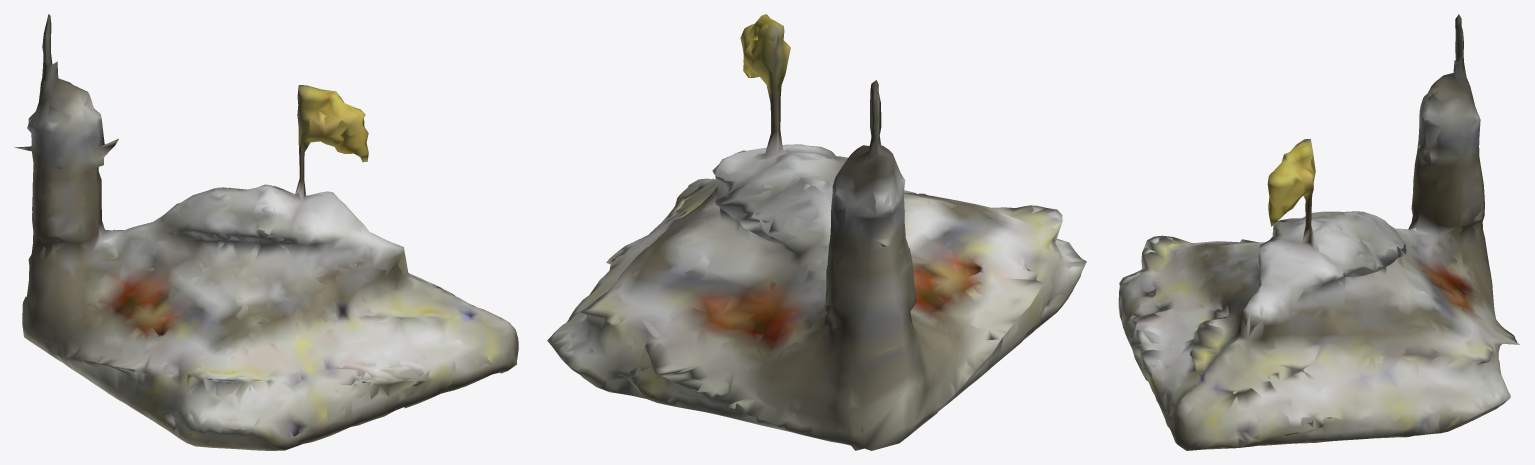
Rendered from tech_airport.glb.
The picture shows the model from 3 angles, left to right: view 1: azimuth 30°, elevation 25°; view 2: azimuth 150°, elevation 25°; view 3: azimuth 270°, elevation 25°; orthographic projection. The views are drawn at different scales.
Parts seen in each view (by area): view 1: tech_airport; view 2: tech_airport; view 3: tech_airport.
Boxes of the visible parts, <box> form: tech_airport: <box>14,14,518,450</box>; tech_airport: <box>547,14,1086,450</box>; tech_airport: <box>1118,14,1519,450</box>.
Bounding box in the file's own units: 1.76 × 1.51 × 1.88.
